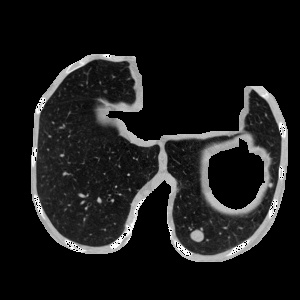PN: (268, 183, 272, 187)
